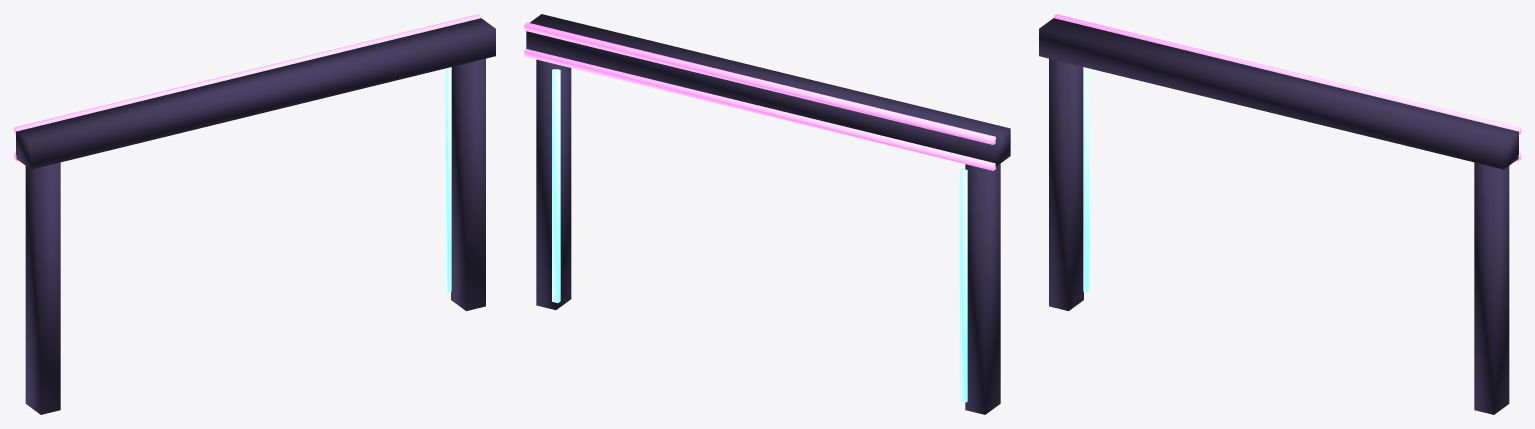
The model's file is ENV_ArchGate.glb.
The picture shows the model from 3 angles, left to right: view 1: azimuth 30°, elevation 25°; view 2: azimuth 150°, elevation 25°; view 3: azimuth 330°, elevation 25°; orthographic projection.
Visible parts, largest first — view 1: lintel, pillar_-1, pillar_1, lintel_light_hi, pillar_light_1; view 2: lintel, pillar_-1, pillar_1, lintel_light_hi, lintel_light_lo, pillar_light_-1, pillar_light_1; view 3: lintel, pillar_1, pillar_-1, lintel_light_hi, pillar_light_-1.
Boxes of the visible parts, left/top/right/bottom form: lintel: left=16, top=18, right=495, bottom=169; pillar_-1: left=25, top=162, right=60, bottom=414; pillar_1: left=451, top=58, right=485, bottom=310; lintel_light_hi: left=14, top=14, right=481, bottom=134; pillar_light_1: left=445, top=67, right=451, bottom=292; lintel: left=526, top=14, right=1010, bottom=166; pillar_-1: left=965, top=163, right=1000, bottom=414; pillar_1: left=536, top=59, right=571, bottom=309; lintel_light_hi: left=524, top=22, right=995, bottom=144; lintel_light_lo: left=524, top=49, right=995, bottom=170; pillar_light_-1: left=959, top=168, right=967, bottom=402; pillar_light_1: left=552, top=69, right=560, bottom=302; lintel: left=1039, top=18, right=1518, bottom=169; pillar_1: left=1474, top=162, right=1509, bottom=414; pillar_-1: left=1049, top=58, right=1083, bottom=310; lintel_light_hi: left=1053, top=14, right=1520, bottom=134; pillar_light_-1: left=1083, top=67, right=1089, bottom=292.
Bounding box in the file's own units: 10.6 × 6.05 × 0.67.
